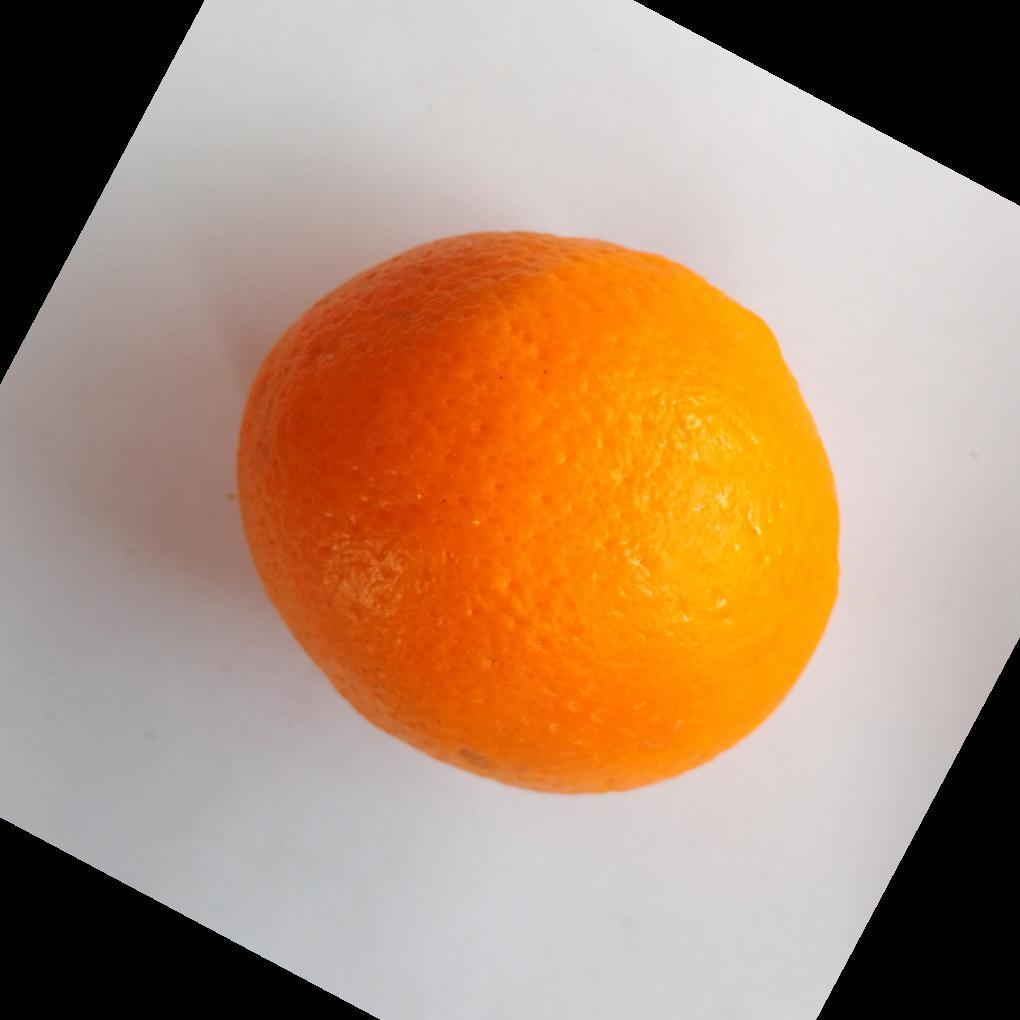FreshGuava: (233, 232, 842, 800)
